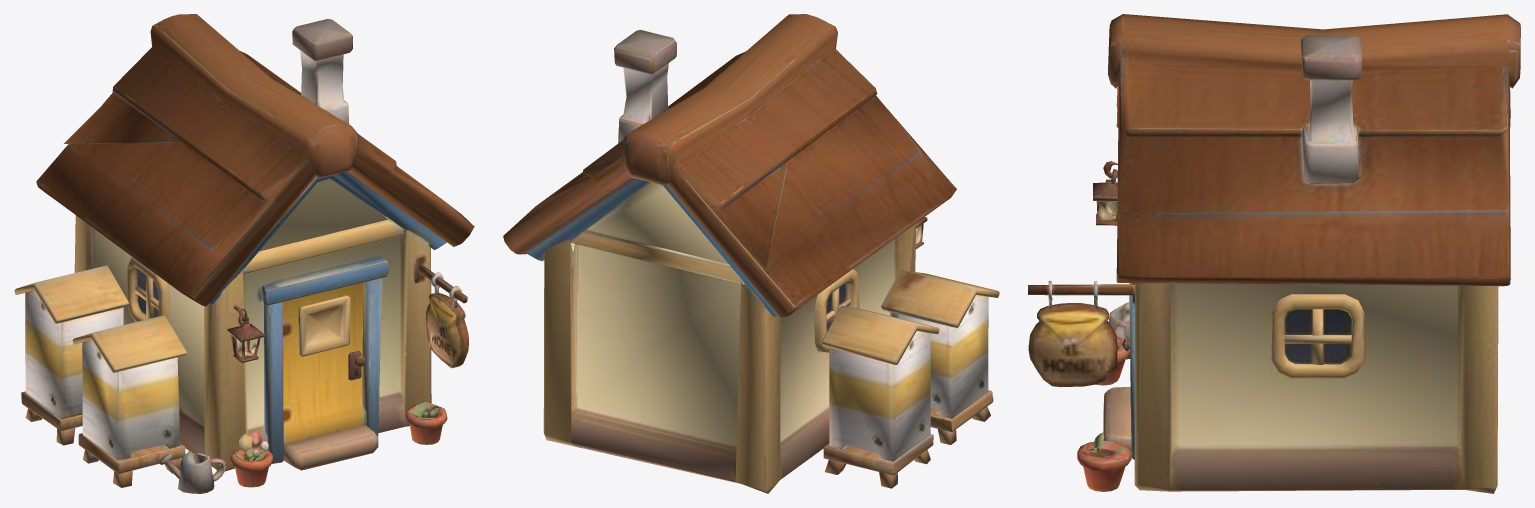
The model's file is apiary.glb.
The picture shows the model from 3 angles, left to right: view 1: azimuth 30°, elevation 25°; view 2: azimuth 150°, elevation 25°; view 3: azimuth 270°, elevation 25°; orthographic projection. The views are drawn at different scales.
Bounding box in the file's own units: 0.9565 × 0.9194 × 0.9467.
Materials: 1 (1 with a texture image).
